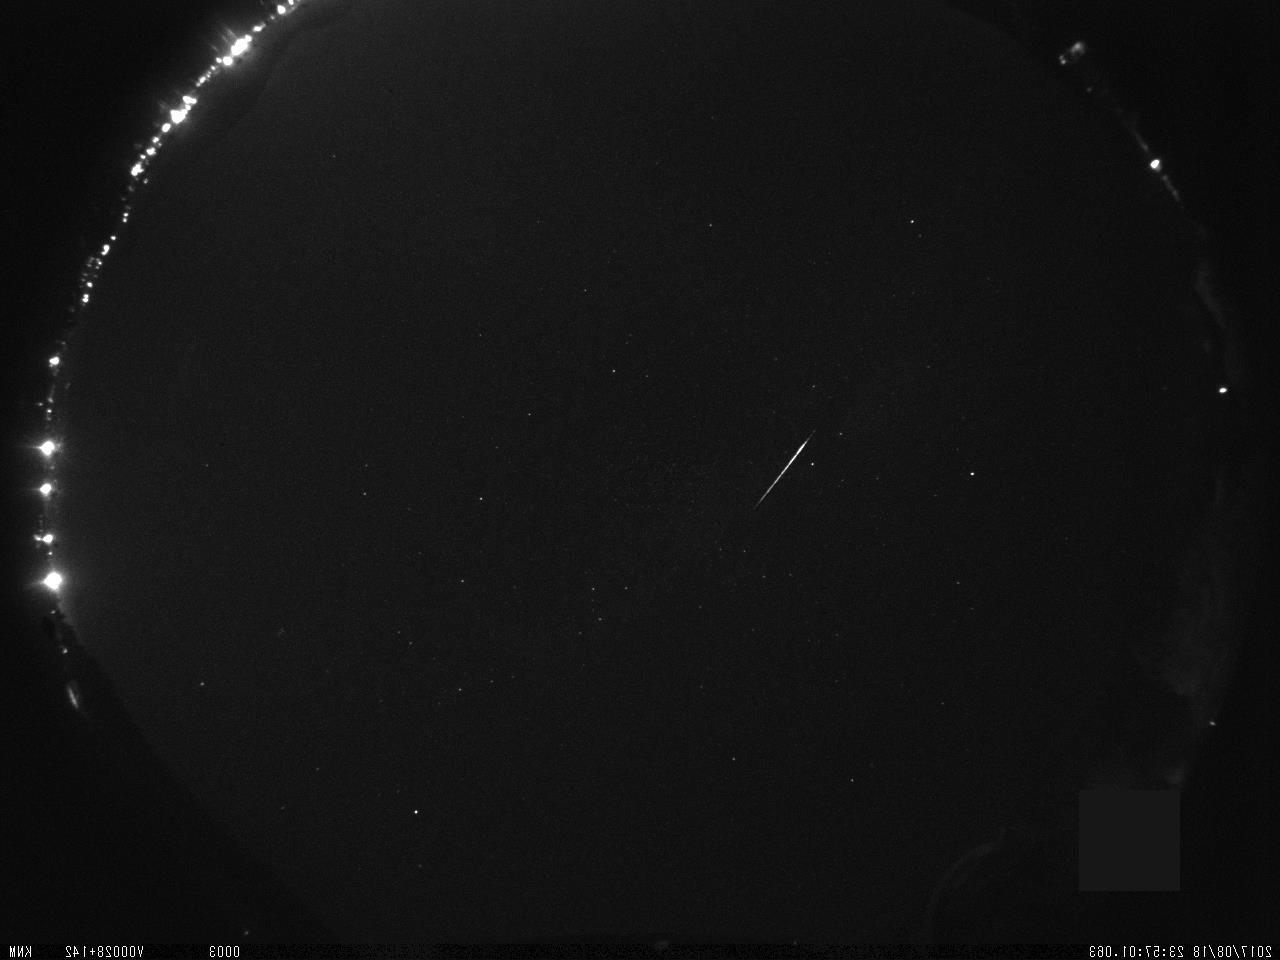meteor: (736, 419, 827, 516)
